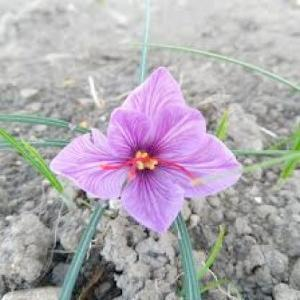Saffron: (50, 68, 243, 230)
